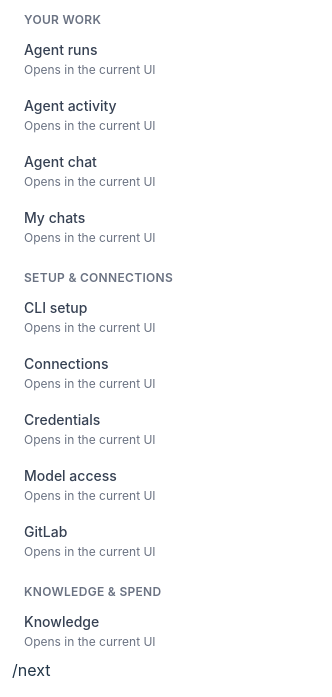
Test: NextNav — Issue #5080 › a server-owned path must leave the SPA — #5123 › still routes an ordinary entry through the SPA router
Step 1. Click the link with test id "next-nav-entry-runs" → (90,59), box [24,41,156,77]
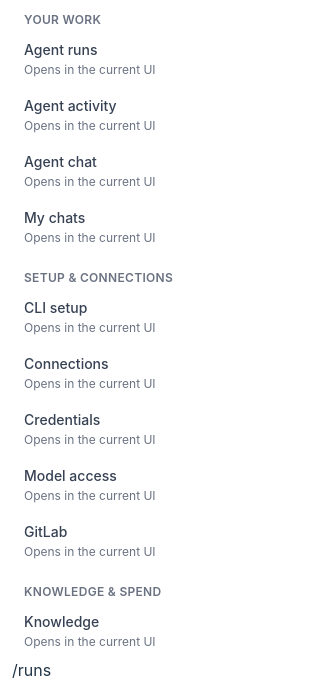
expect the text with test id "location" reads "/runs": met, box [12,660,51,680]
